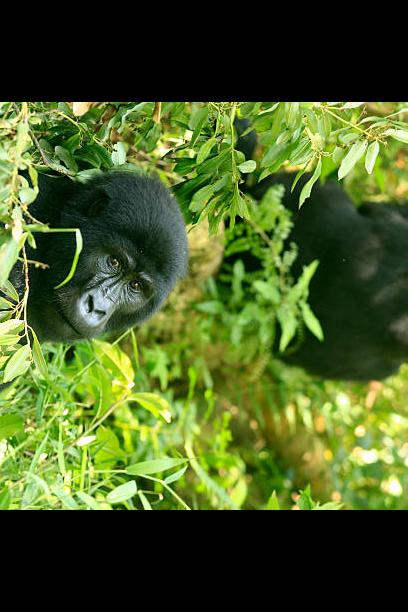goriile_montagne: (37, 145, 223, 393), (285, 215, 408, 379)
